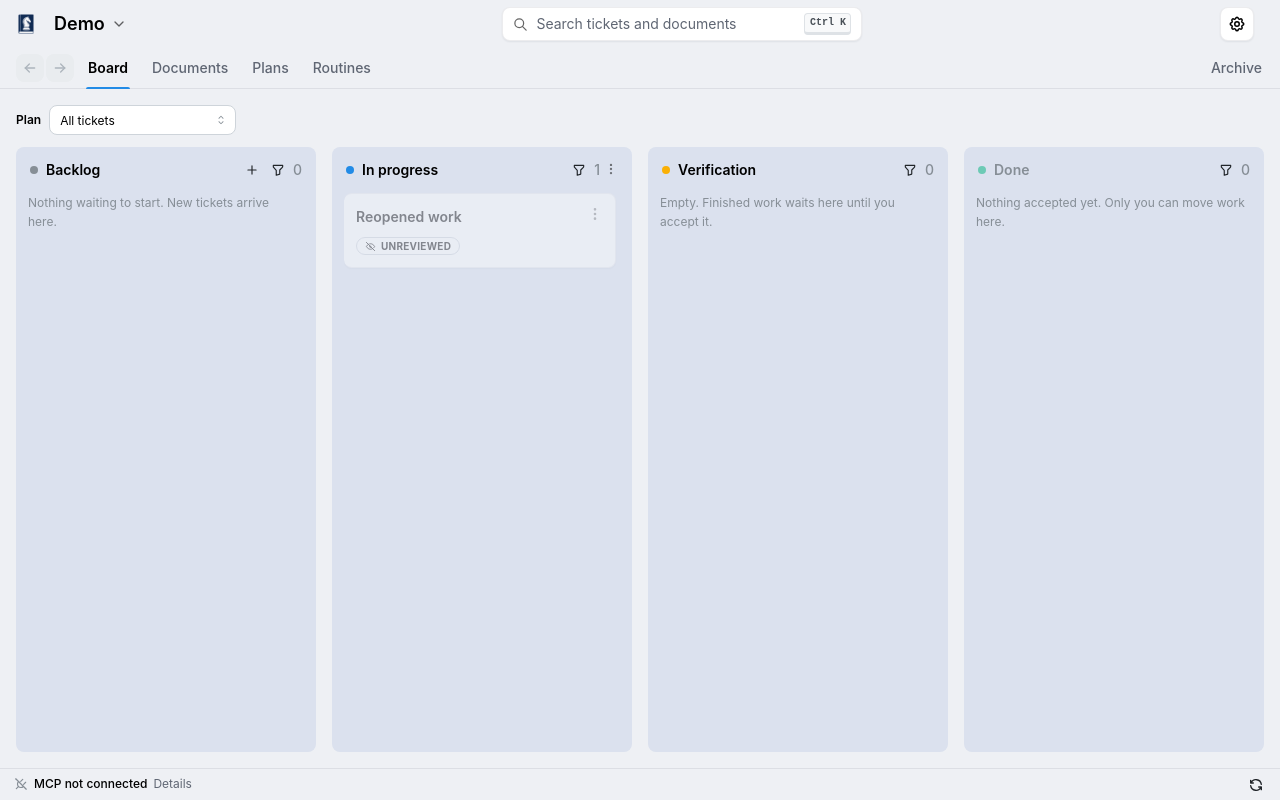
Test: a ticket that is not Done › says it was reopened, in the past, when it was accepted before
Click the text "Reopened work": x=409, y=216 [356,208,462,225]
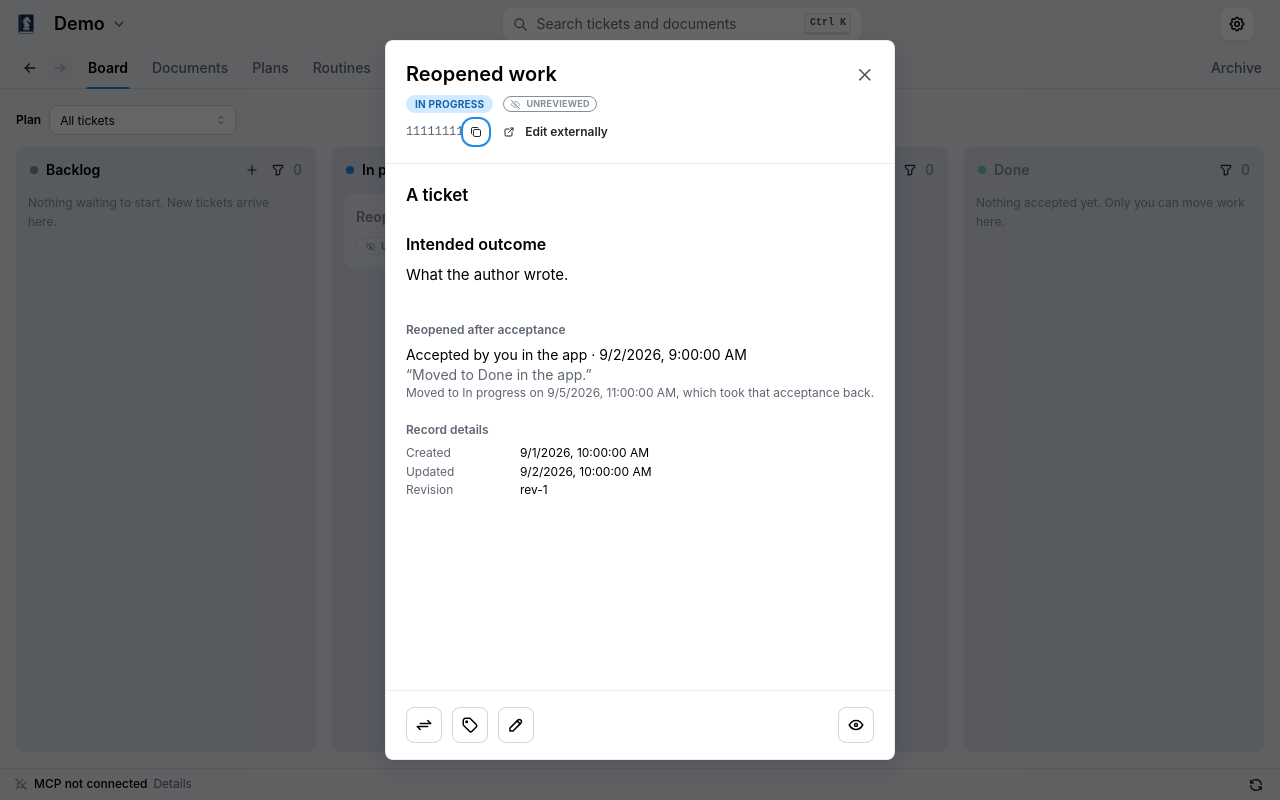
Now the text "Reopened after acceptance" is shown, box [406,322,566,337]
Now the text "Accepted by you in the app · 9/2/2026, 9:00:00 AM" is shown, box [406,346,747,363]
Now the text "took that acceptance back" is shown, box [676,385,874,400]
